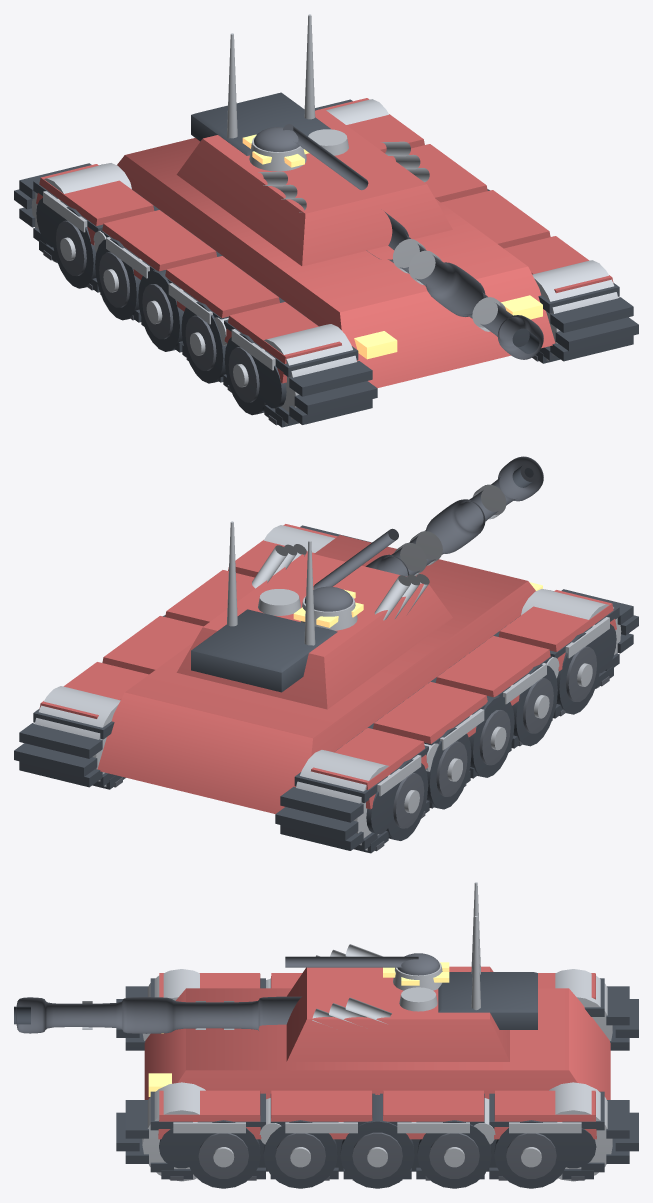
File: id_3tnk.glb
The picture shows the model from 3 angles, top to bottom: view 1: azimuth 30°, elevation 25°; view 2: azimuth 150°, elevation 25°; view 3: azimuth 270°, elevation 25°; orthographic projection. The views are drawn at different scales.
Visible parts, largest first — view 1: Hull, Turret; view 2: Hull, Turret; view 3: Hull, Turret.
Part boxes in pixels (x1,y1,x2,y2): Hull: (14, 98, 638, 427); Turret: (125, 14, 543, 359); Hull: (14, 524, 638, 853); Turret: (125, 456, 543, 738); Hull: (116, 969, 638, 1188); Turret: (14, 882, 568, 1070).
Bounding box in the file's own units: 2.06 × 1.38 × 3.6.
